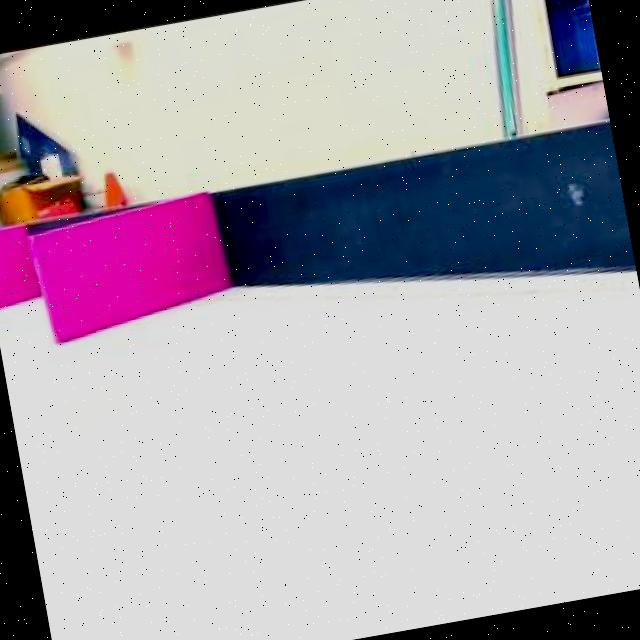xparking: (23, 190, 232, 334), (0, 221, 36, 309)
